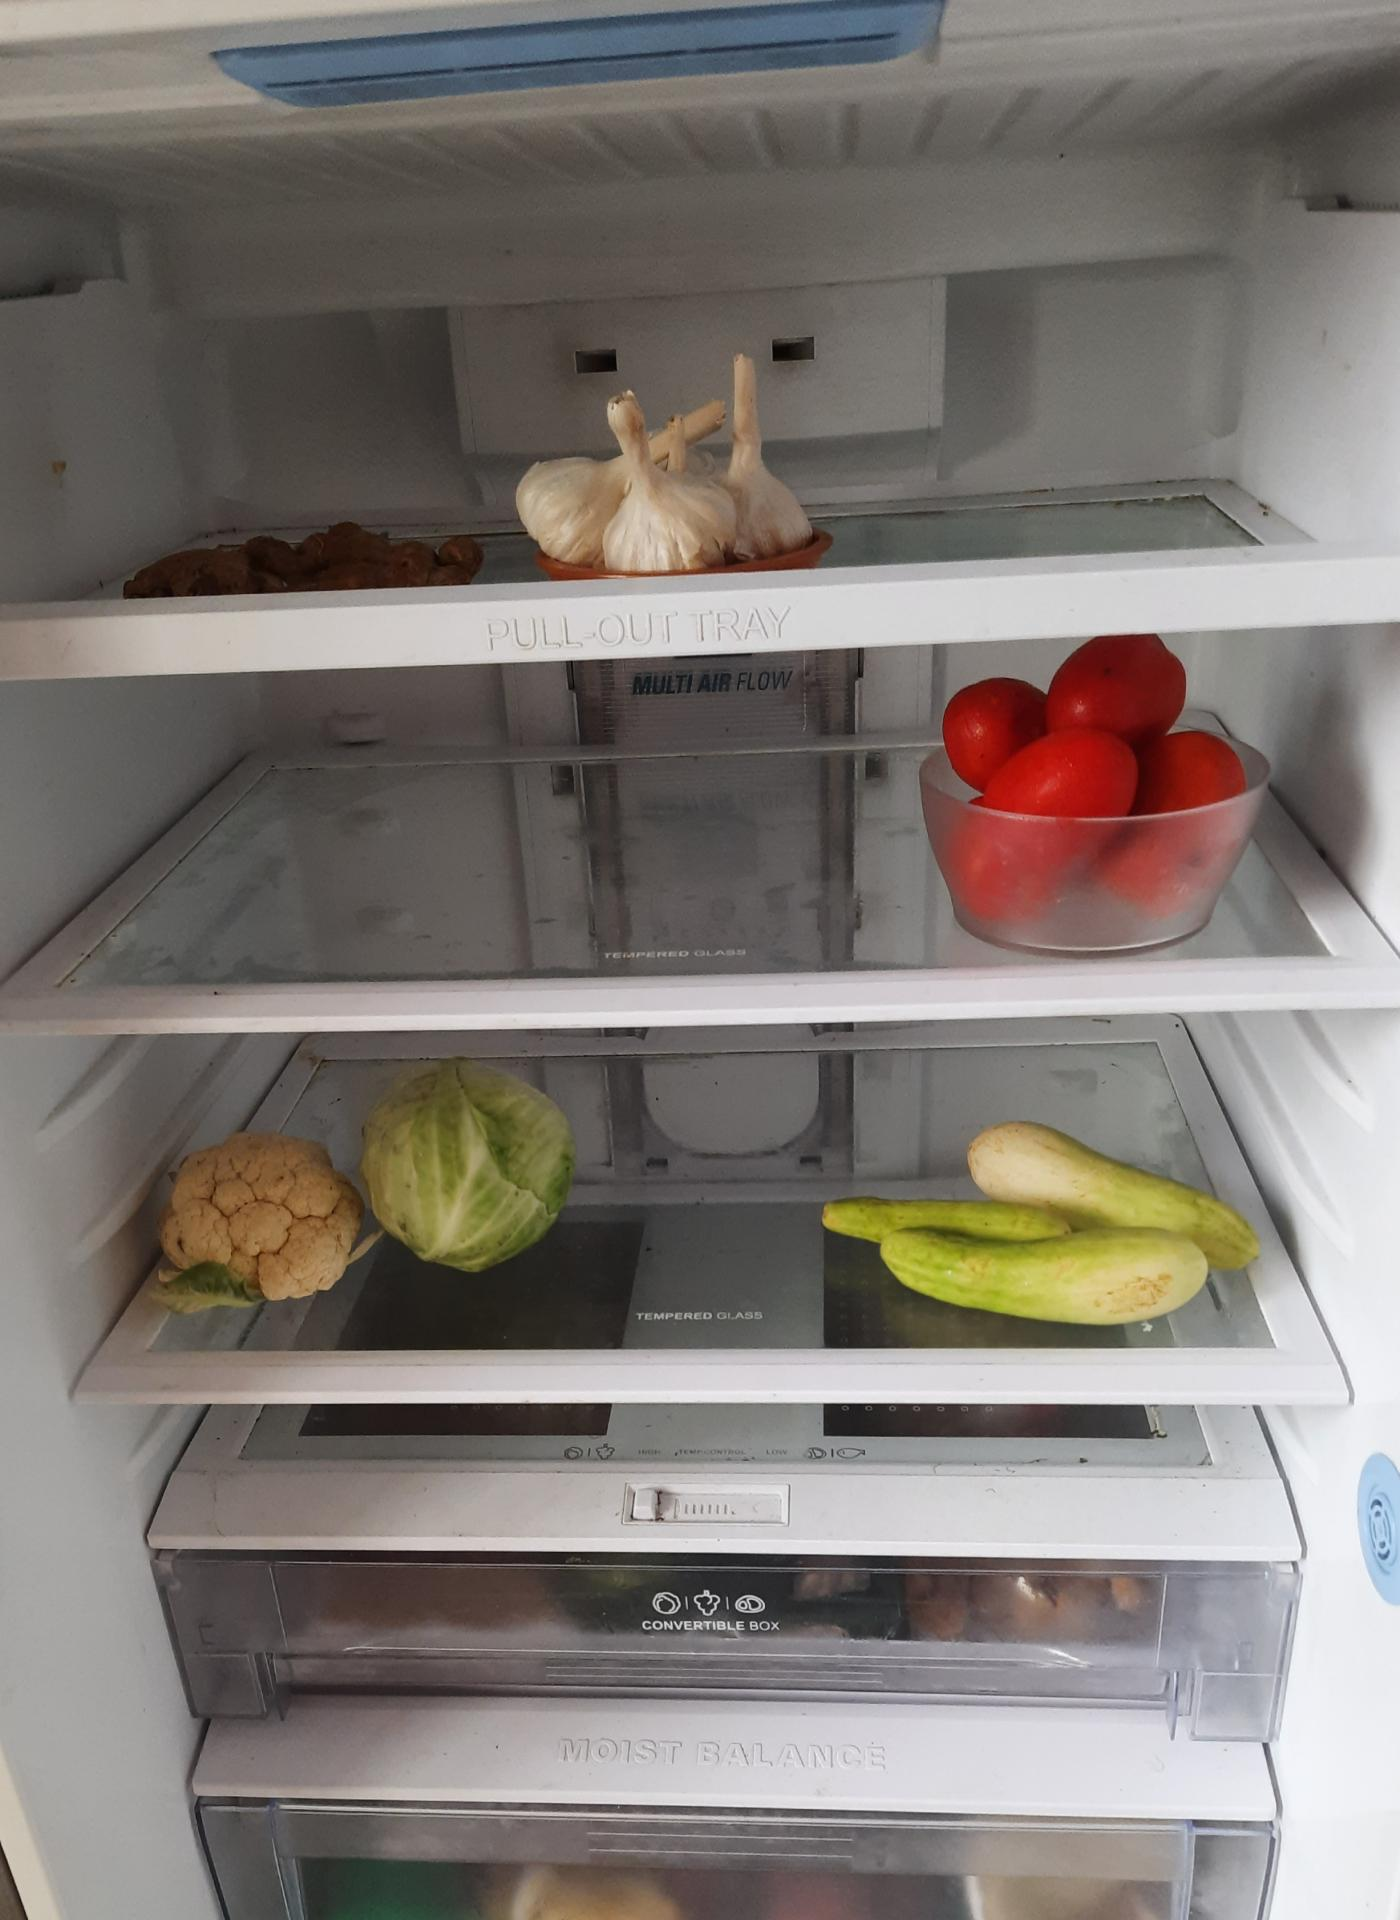cabbage: (362, 1058, 587, 1282)
cauliflower: (145, 1128, 367, 1316)
cucumber: (824, 1120, 1272, 1333)
garlic: (516, 350, 827, 581)
ginger: (131, 502, 494, 595)
tomato: (912, 629, 1273, 951)
